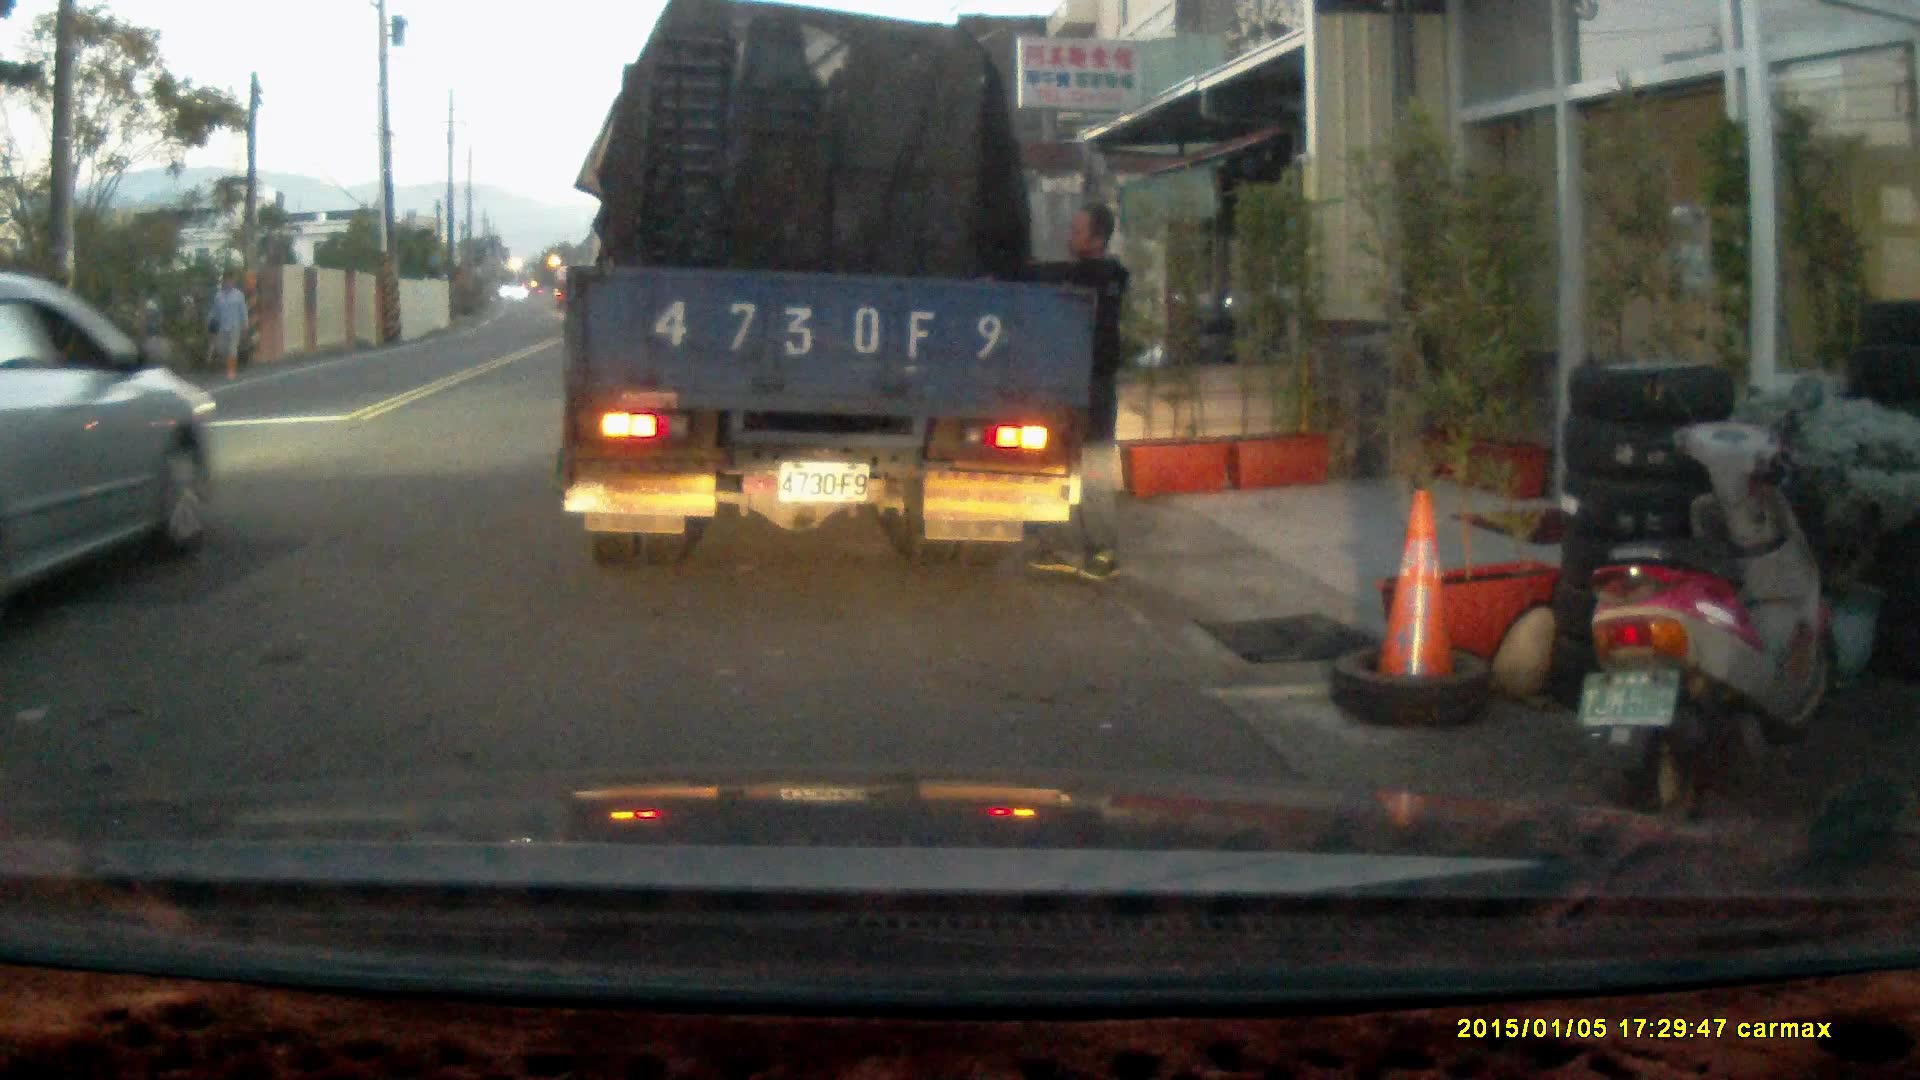pedestrian: (994, 199, 1127, 581), (208, 270, 248, 383)
vehicle: (565, 23, 1097, 572), (3, 270, 224, 615)
